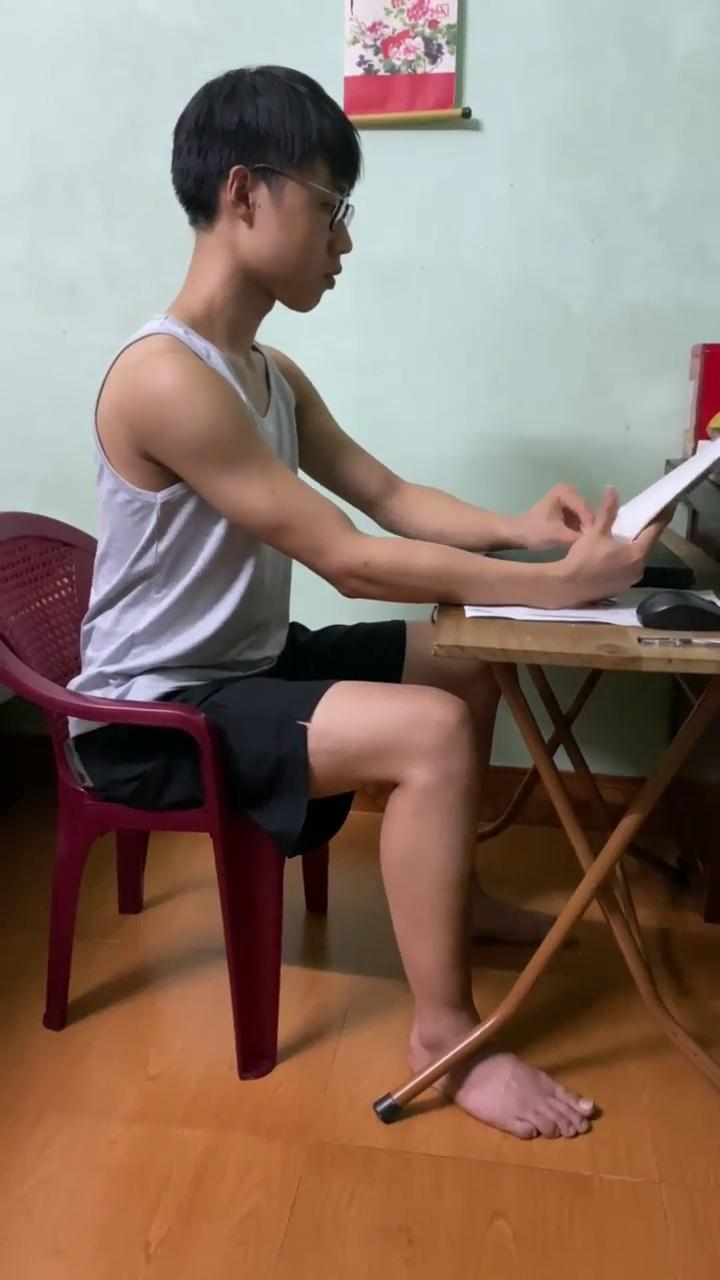GoodPosture: (71, 66, 665, 1068)
